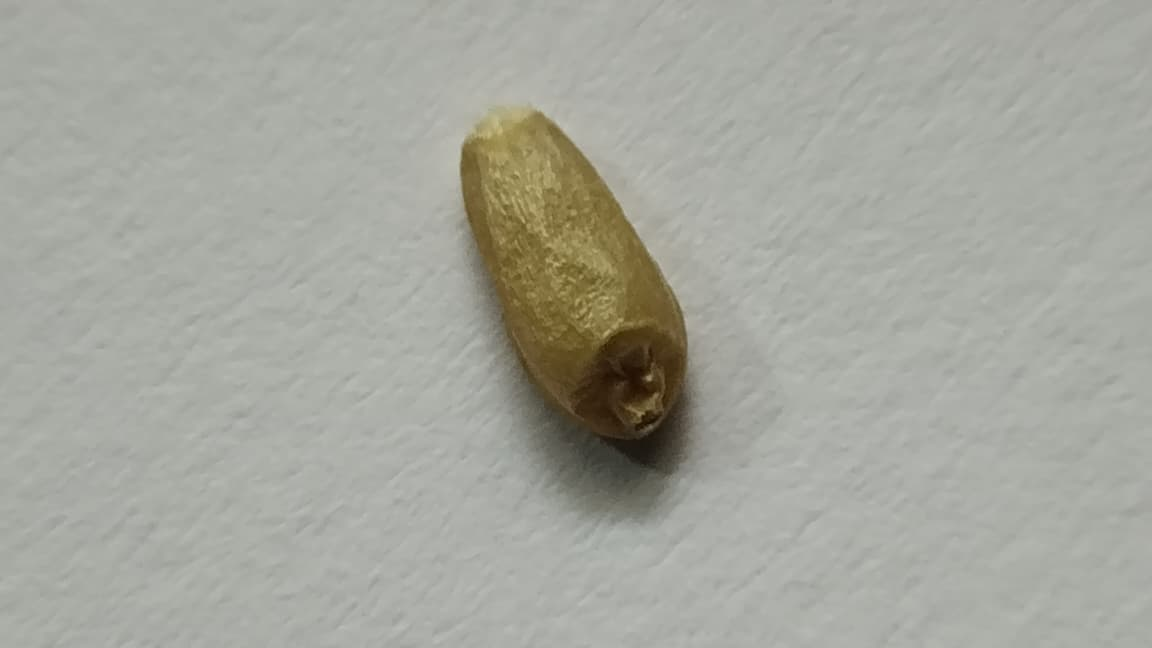healthy: (460, 106, 686, 439)
